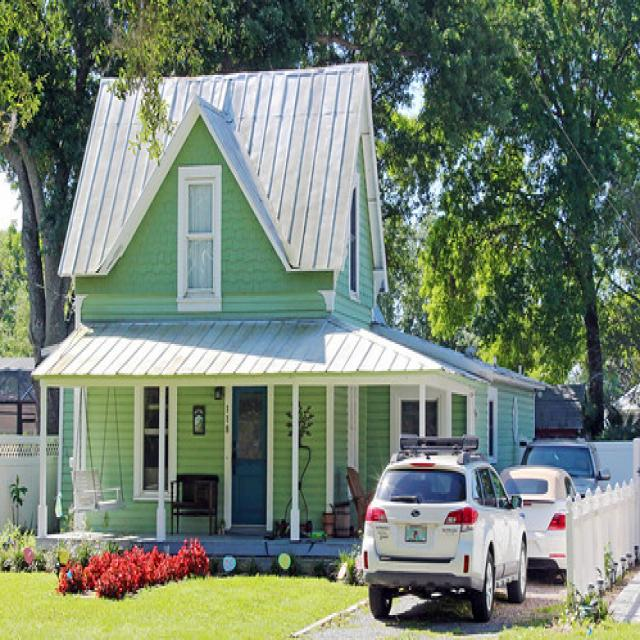Normal_building: (25, 55, 543, 566)
